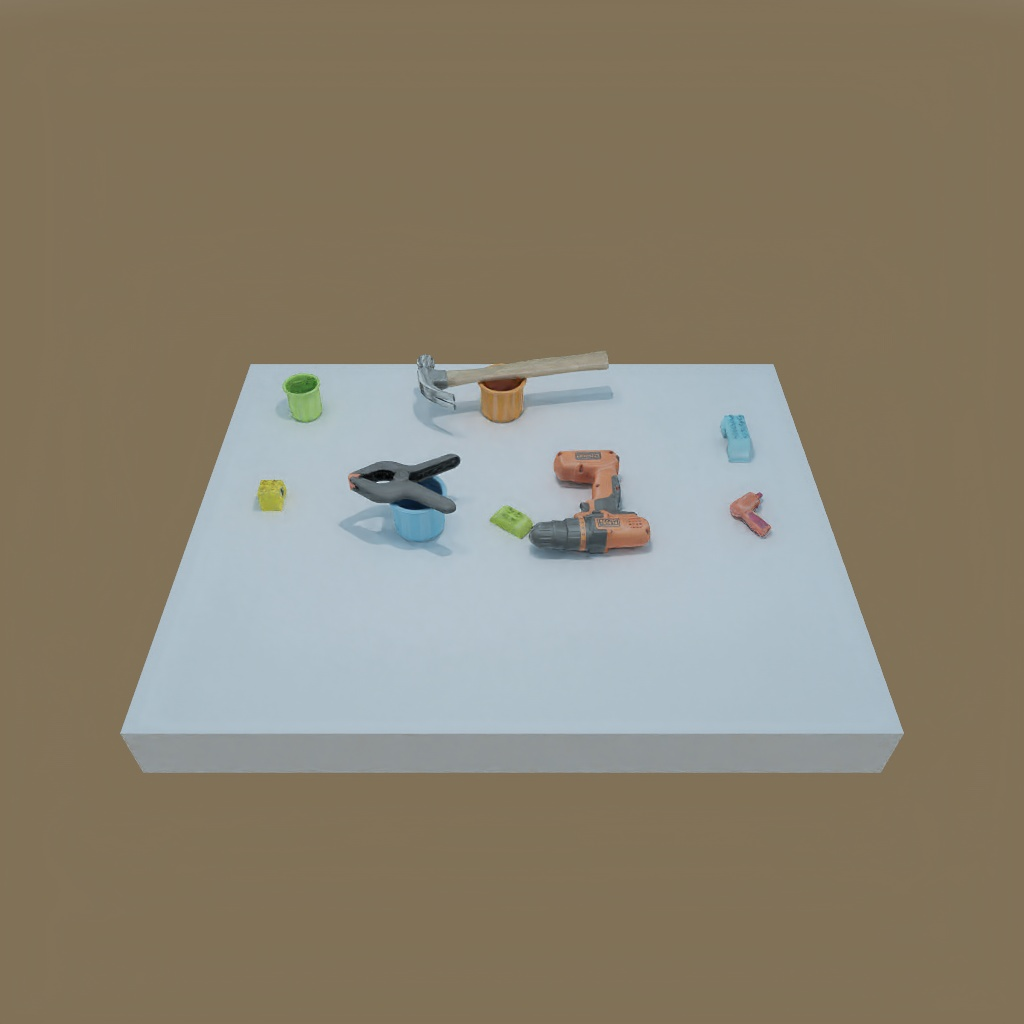hammer: (416, 347, 612, 404)
power_drill: (527, 451, 656, 555)
